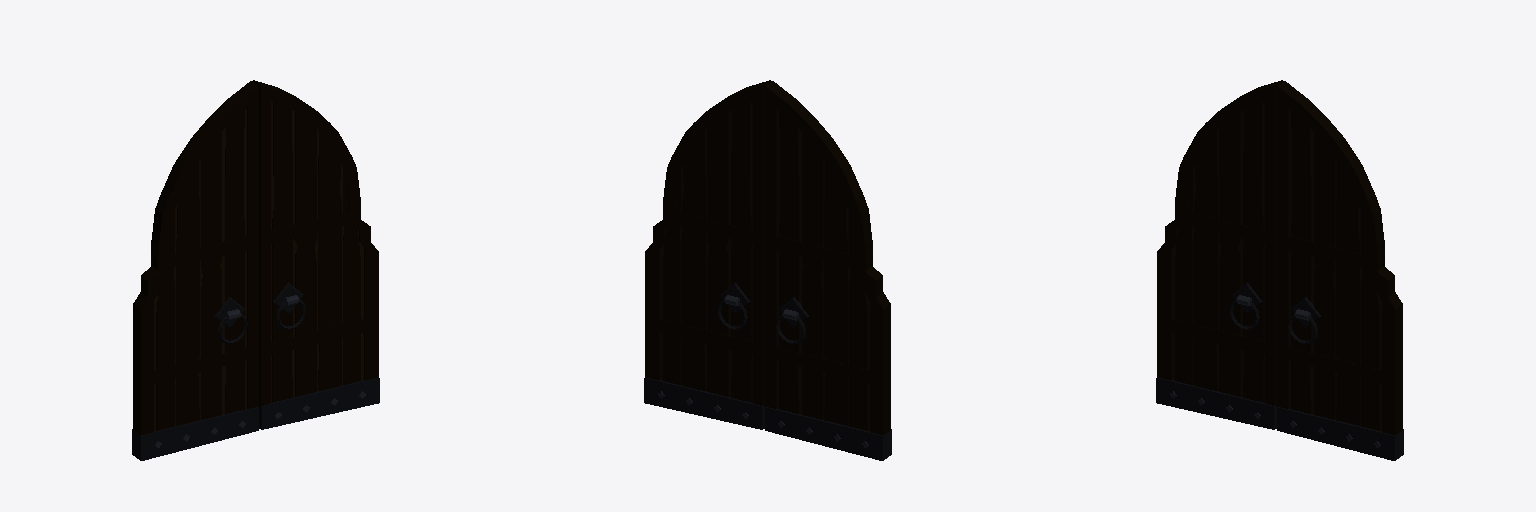
File: Doors_GothicArch.obj
3 renders of one model, left to right at view 1: azimuth 30°, elevation 25°; view 2: azimuth 150°, elevation 25°; view 3: azimuth 330°, elevation 25°, orthographic.
Visible parts, largest first — view 1: Doors_GothicArch_L_Cylinder.001, Doors_GothicArch_R_Cylinder.049; view 2: Doors_GothicArch_L_Cylinder.001, Doors_GothicArch_R_Cylinder.049; view 3: Doors_GothicArch_R_Cylinder.049, Doors_GothicArch_L_Cylinder.001.
Part boxes in pixels (x1,y1,x2,y2): Doors_GothicArch_L_Cylinder.001: (132, 81, 258, 460); Doors_GothicArch_R_Cylinder.049: (253, 80, 379, 429); Doors_GothicArch_L_Cylinder.001: (765, 81, 891, 460); Doors_GothicArch_R_Cylinder.049: (644, 80, 770, 429); Doors_GothicArch_R_Cylinder.049: (1277, 81, 1403, 460); Doors_GothicArch_L_Cylinder.001: (1156, 80, 1282, 429).
Size of the model in its own units: 2.31 by 3.21 by 0.2743.